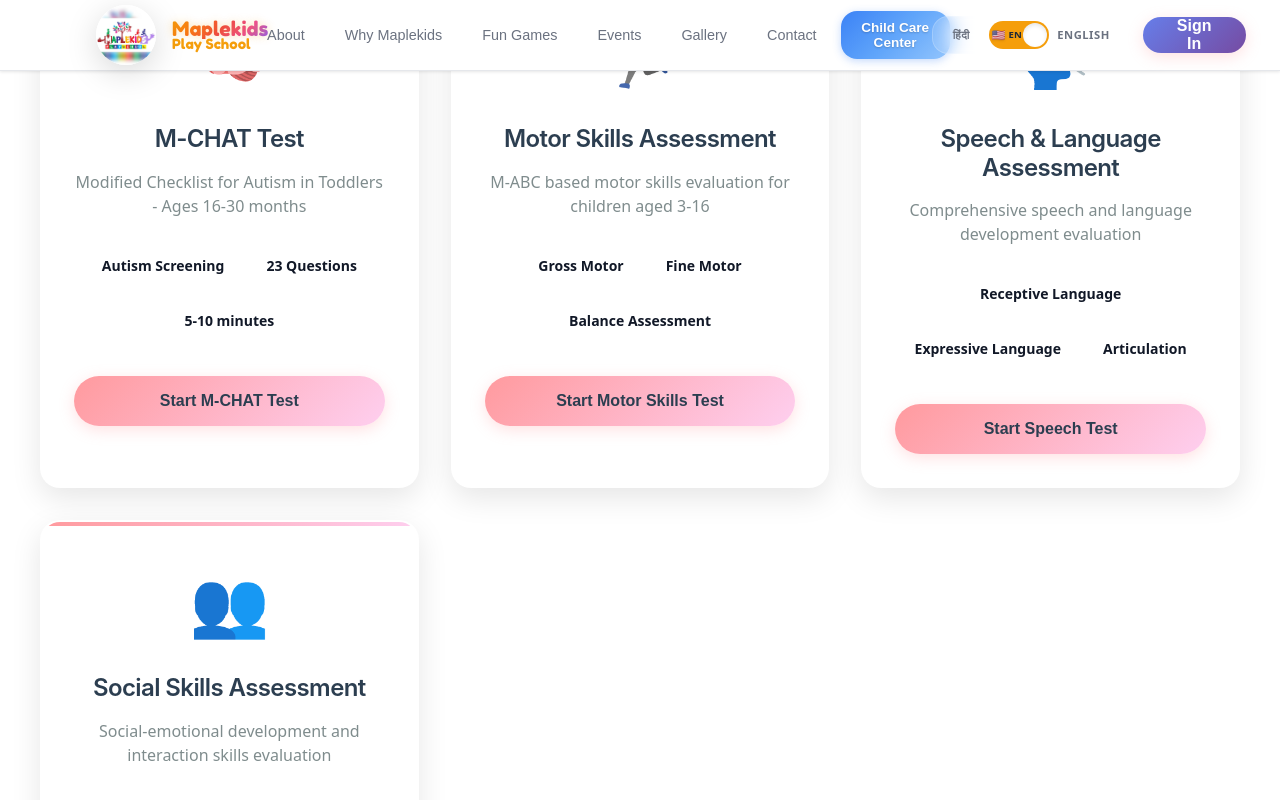
Test: ChildCareCenter Component › Motor Skills Test Functionality › shows all answer options for motor skills
(page scrolled)
Click the button "Start Motor Skills Test": (640, 401) [485,376,795,426]
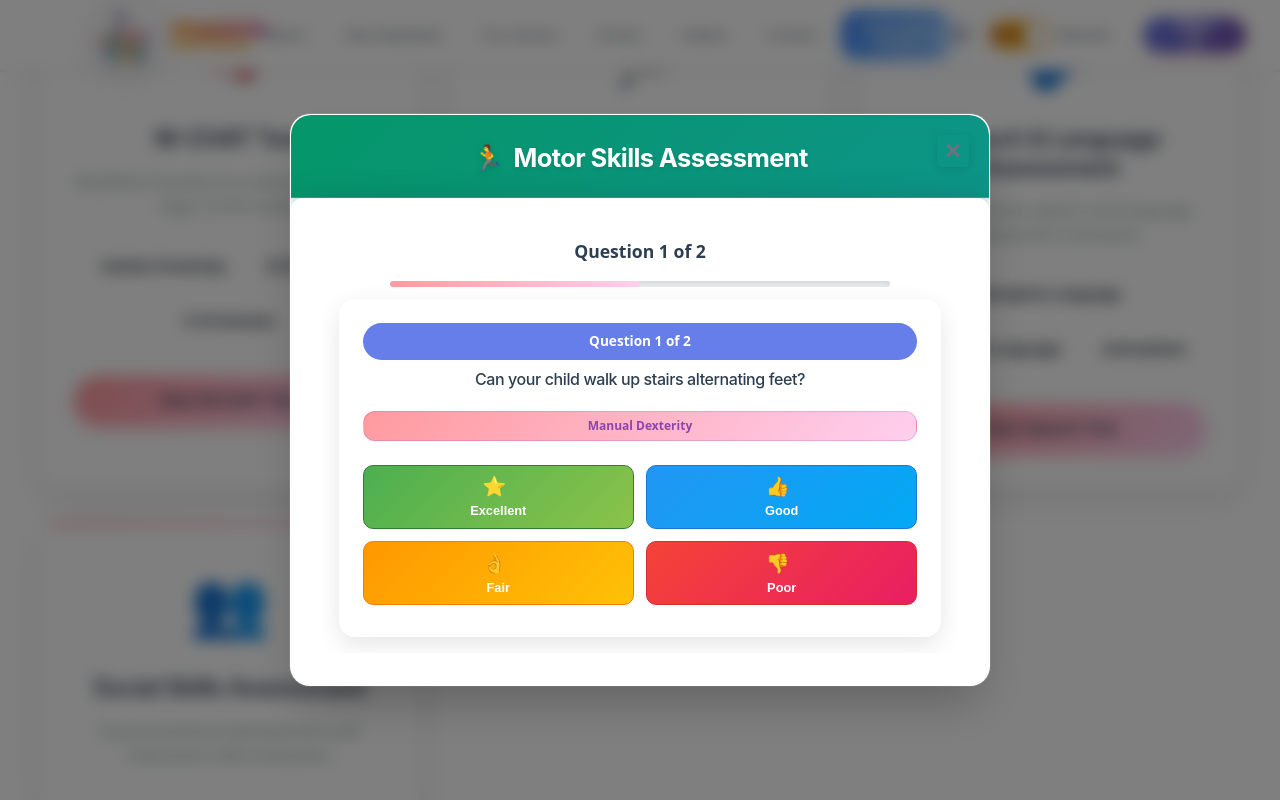
Expected: the button "⭐ Excellent" is shown, [363,465,634,529]
Expected: the button "👍 Good" is shown, [646,465,917,529]
Expected: the button "👌 Fair" is shown, [363,541,634,605]
